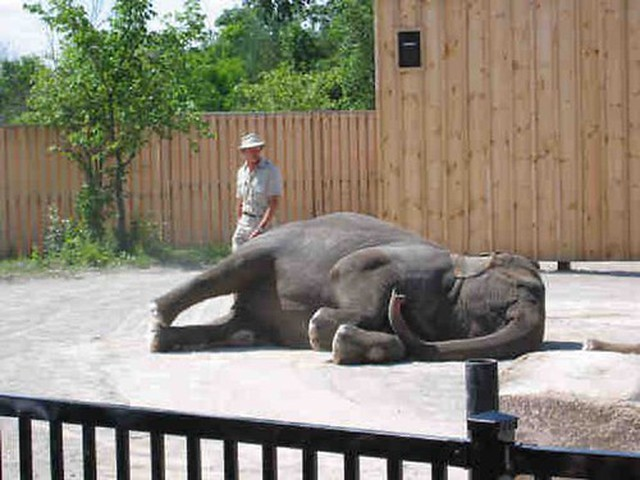Elephant: (139, 207, 569, 360)
Person: (226, 132, 283, 236)
